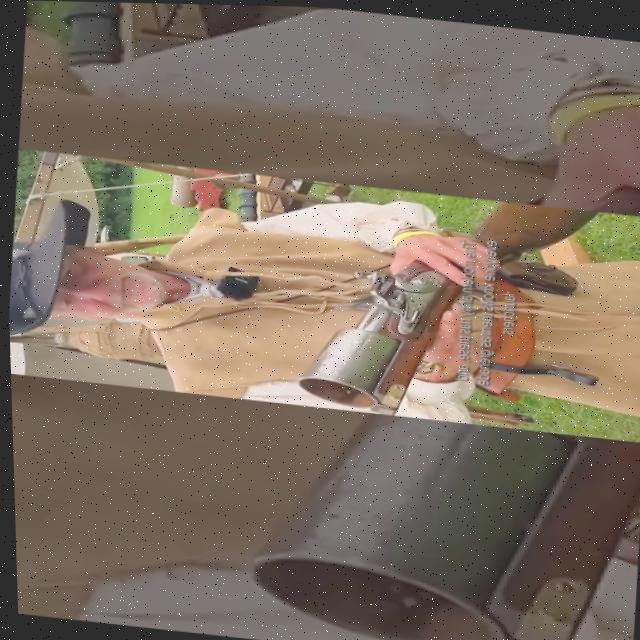rocket: (292, 178, 594, 430)
